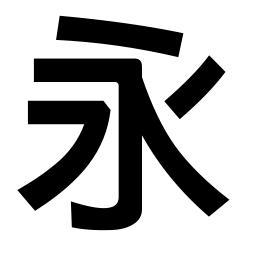D: (54, 13, 185, 44)
HSZ: (108, 56, 144, 93)
Hs: (31, 56, 83, 83)
Ne: (191, 185, 233, 218)
PNc: (138, 97, 185, 139)
PZe: (16, 176, 57, 212)
Ps: (199, 53, 229, 84)
SG: (69, 195, 145, 233)
Sm: (116, 146, 143, 180)
TPZ: (76, 98, 112, 137)
Ts: (26, 98, 59, 126)
